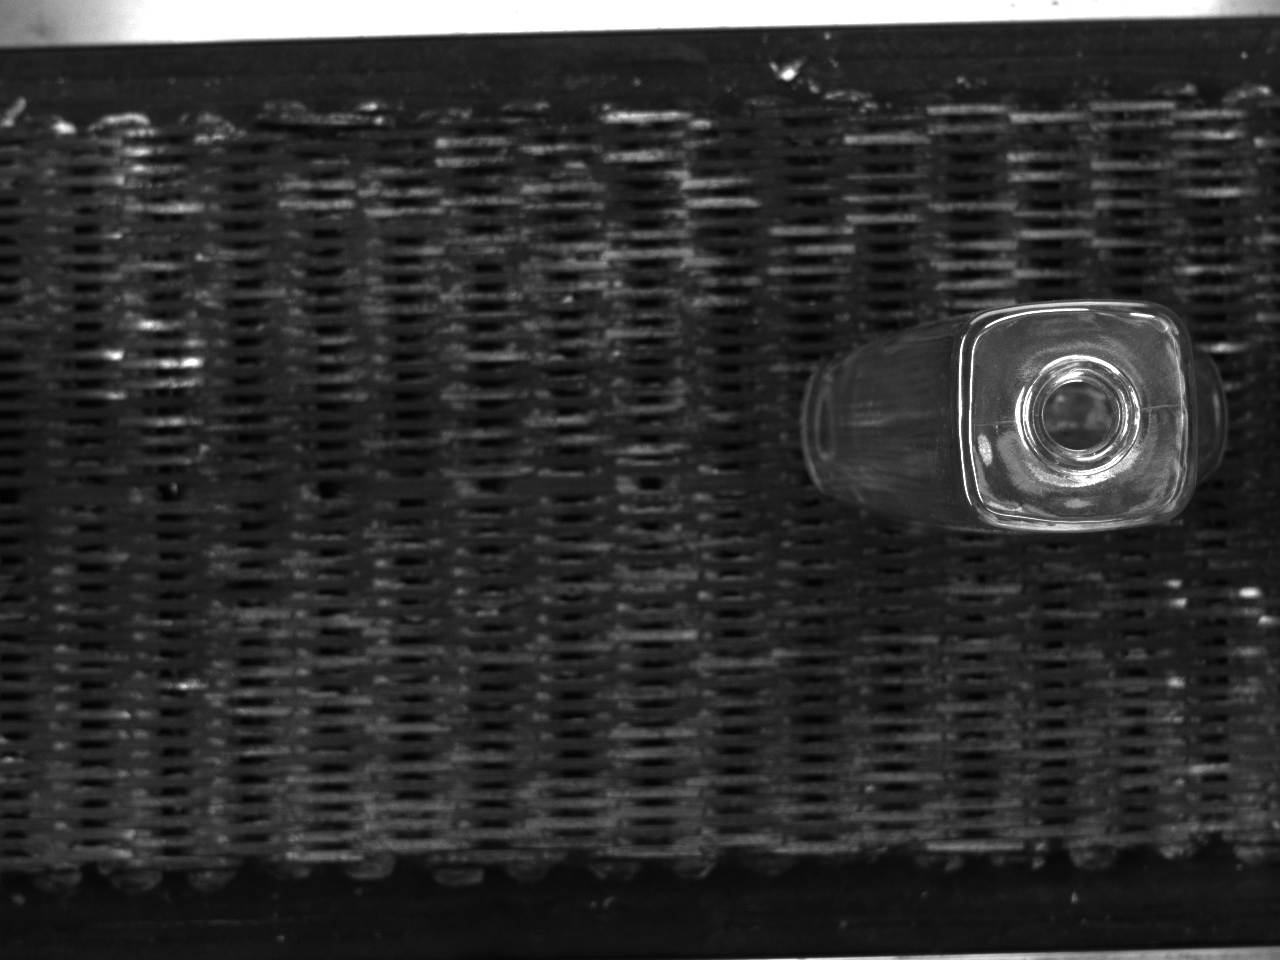bottleneck: (1023, 353, 1140, 474)
